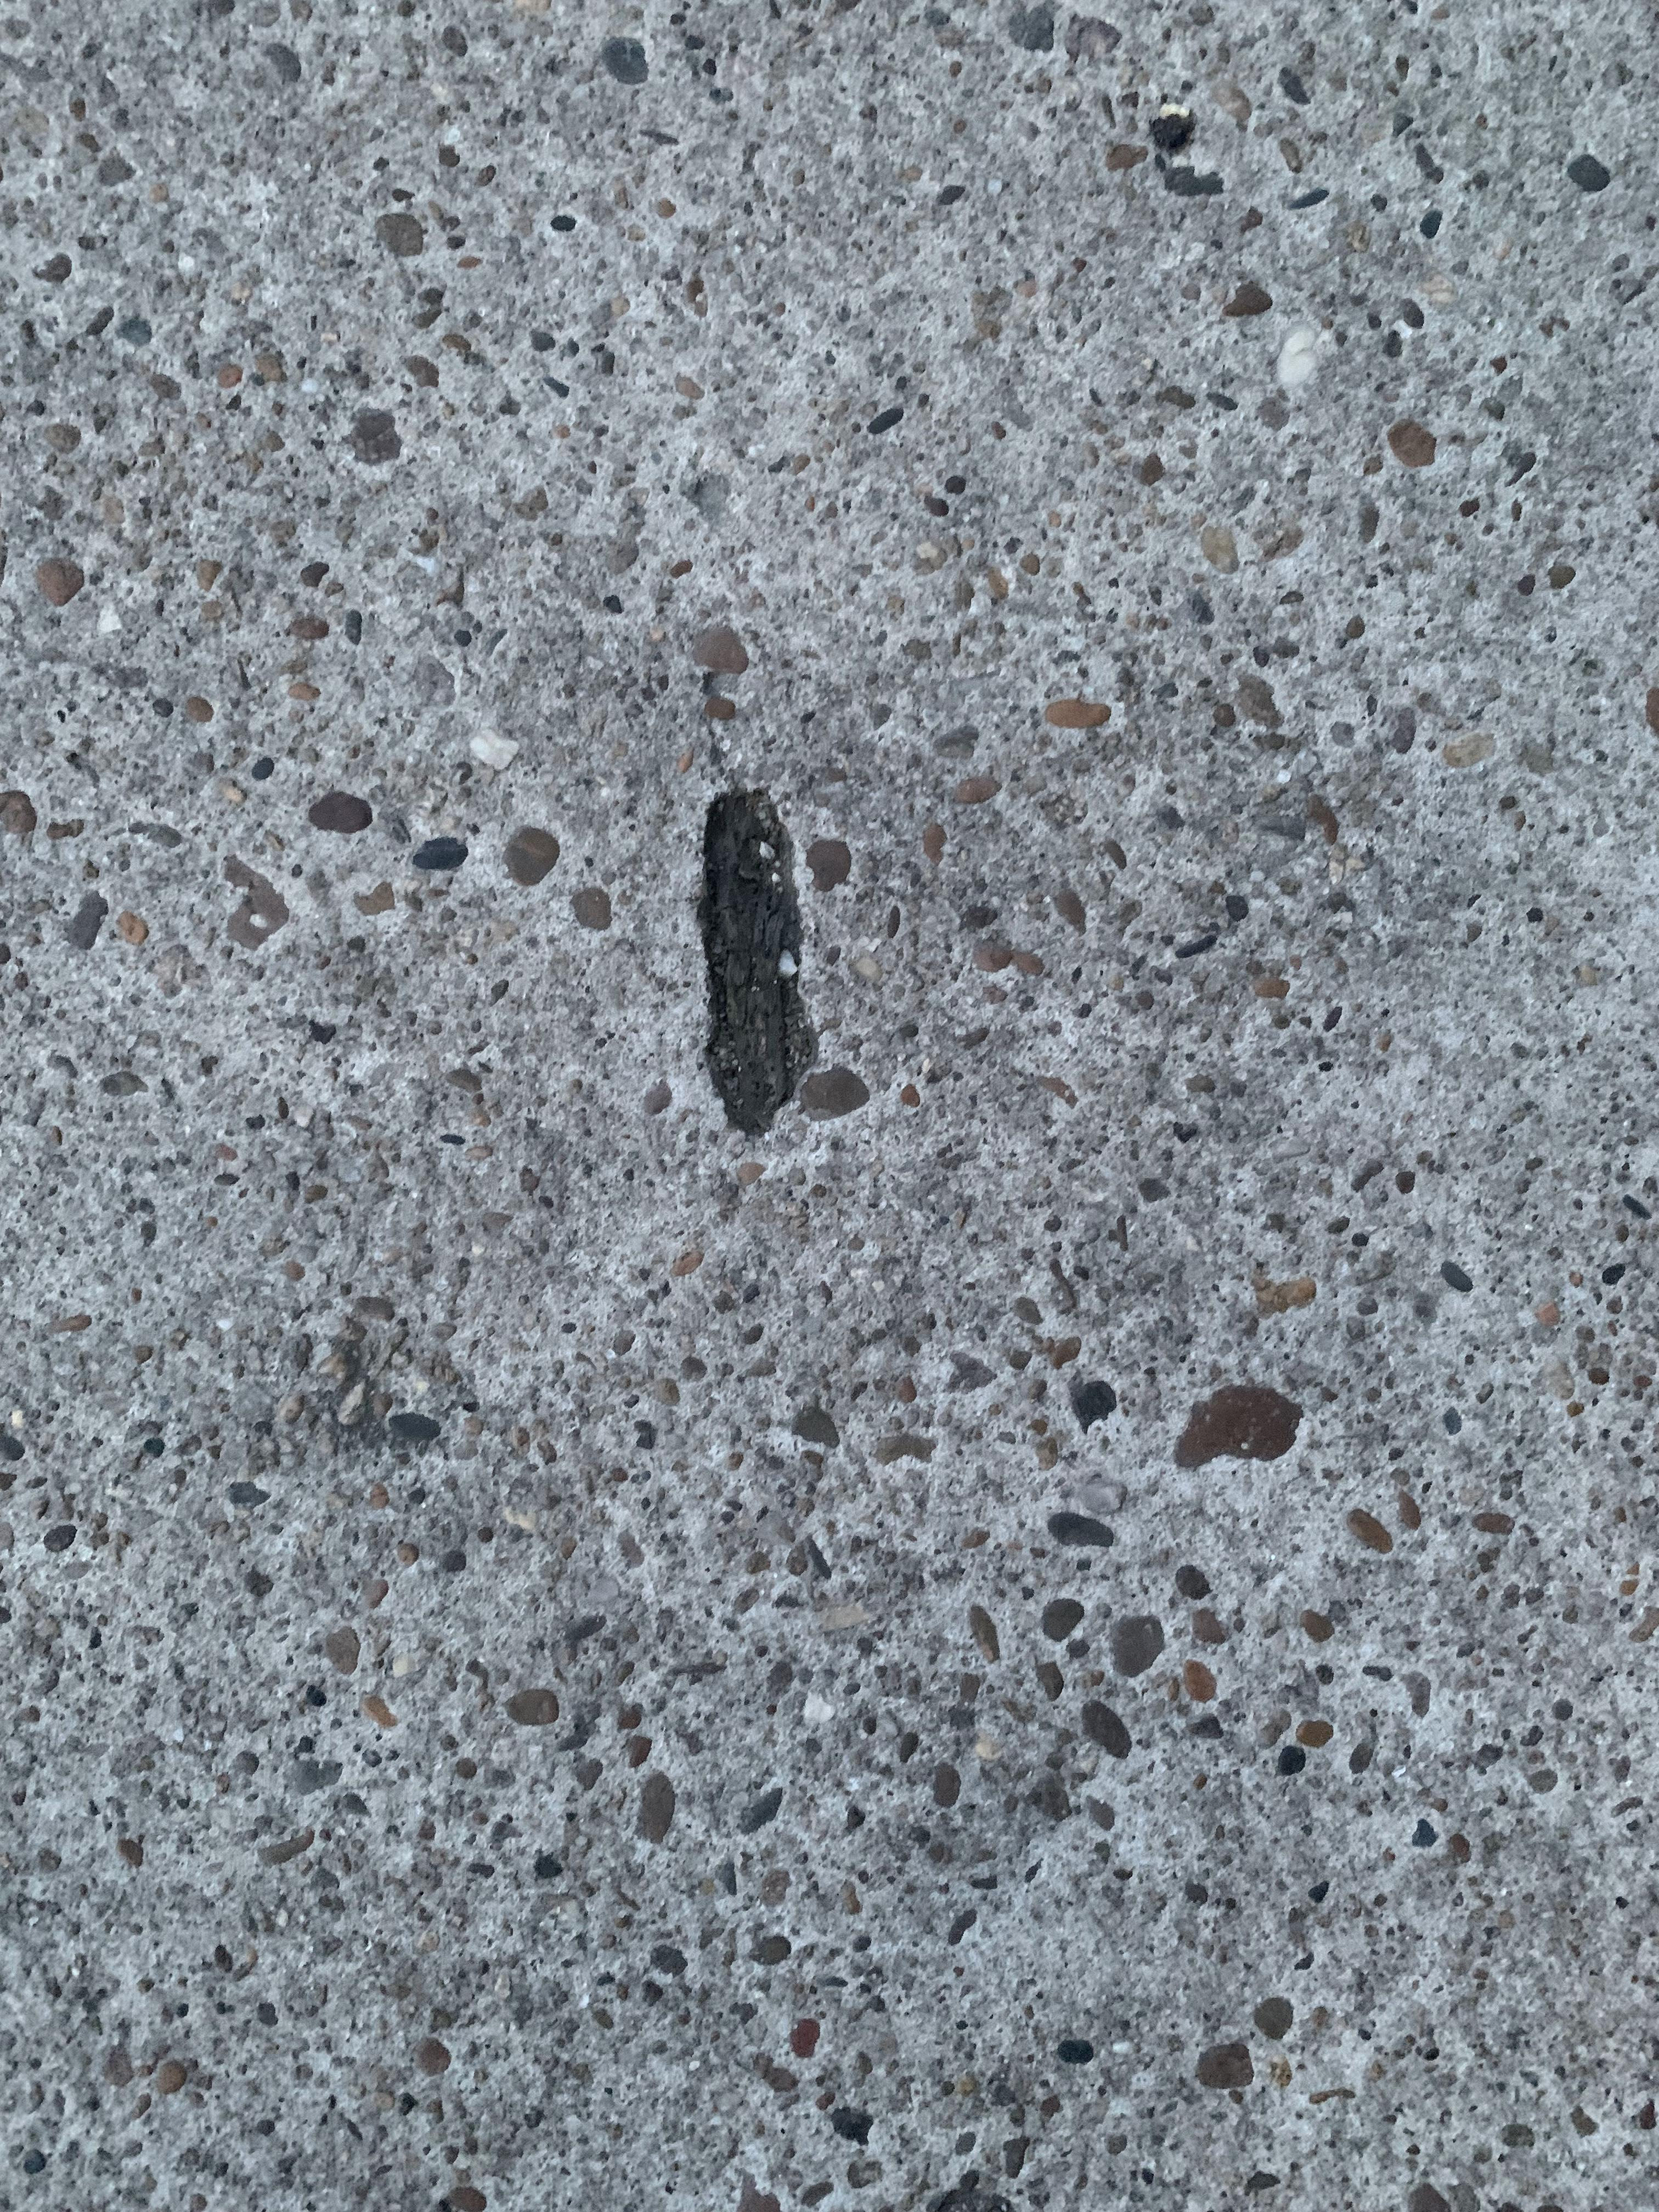grey spot: (692, 782, 812, 1146)
